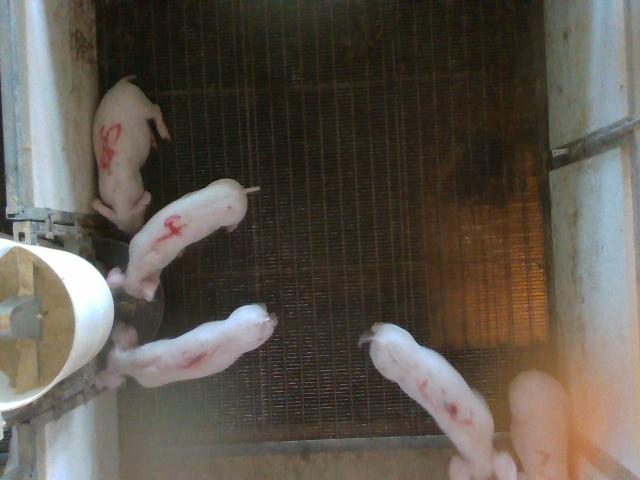pig-1: (95, 305, 276, 389)
pig-3: (360, 322, 516, 478)
pig-4: (106, 179, 258, 301)
pig-5: (92, 75, 170, 234)
